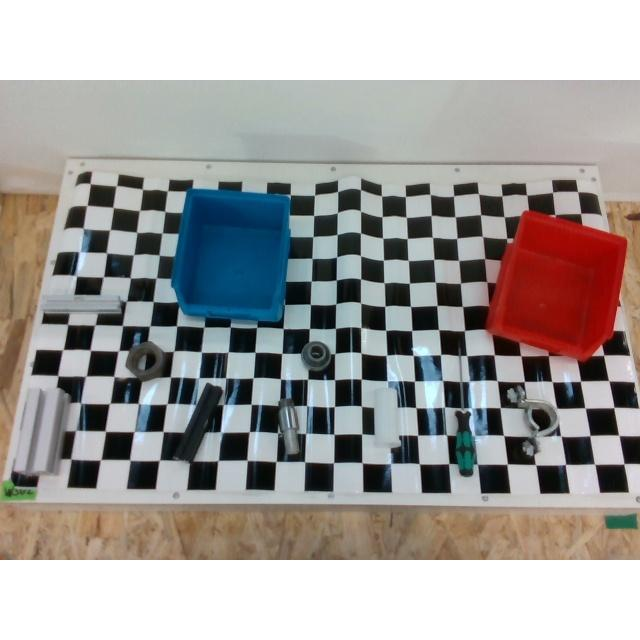Axis2: (278, 396, 300, 456)
Bearing2: (302, 342, 332, 366)
F20_20_B: (172, 383, 224, 463)
F20_20_G: (42, 293, 122, 315)
Housing: (508, 386, 558, 458)
M30: (125, 342, 163, 382)
S40_40_G: (13, 388, 71, 477)
Screwdriver: (454, 342, 478, 478)
Spacer: (372, 387, 400, 449)
container_box_blue: (170, 188, 292, 322)
container_box_red: (487, 210, 628, 364)
